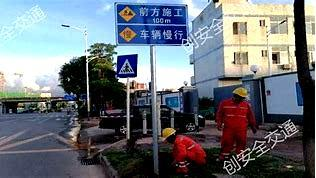sign: (115, 3, 188, 44)
